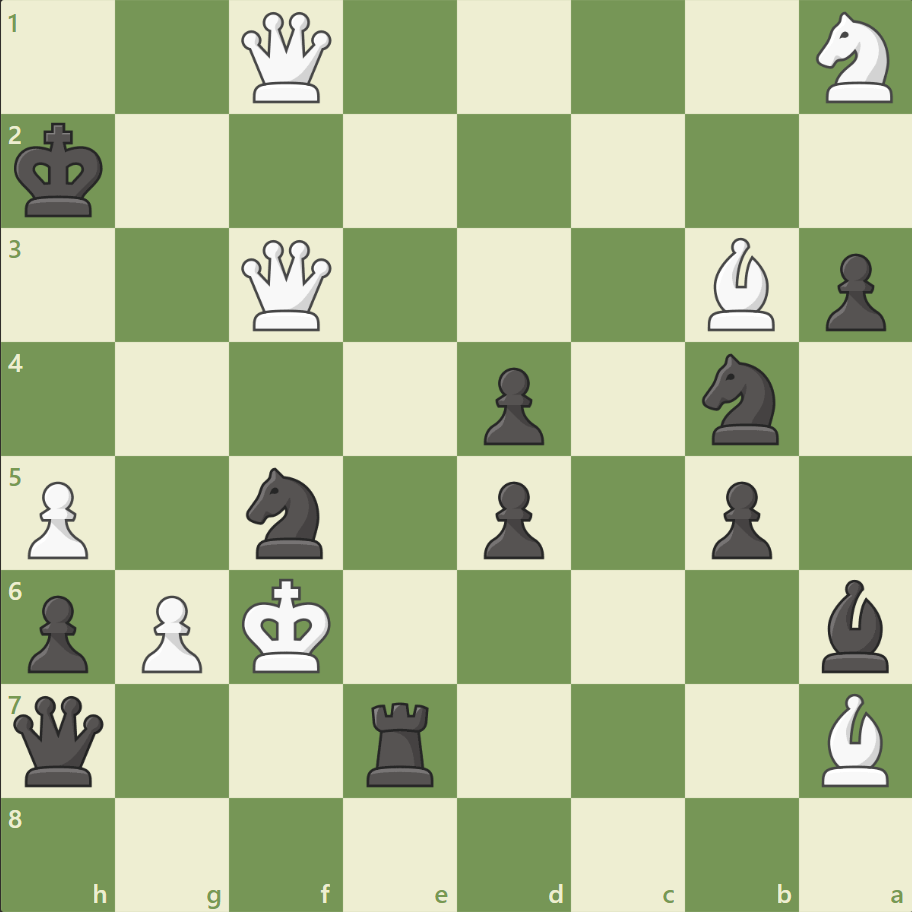B: (812, 687, 896, 790), (698, 233, 782, 336)
K: (238, 571, 338, 679)
N: (806, 7, 903, 110)
P: (133, 586, 208, 677), (20, 473, 95, 564)
Q: (237, 236, 336, 335), (237, 9, 336, 108)
b: (812, 574, 896, 676)
k: (11, 117, 111, 225)
n: (238, 461, 335, 564), (692, 348, 789, 450)
p: (20, 586, 95, 677), (701, 473, 776, 564), (474, 473, 549, 564), (474, 359, 549, 450), (815, 246, 889, 337)
q: (10, 690, 109, 789)
r: (360, 693, 442, 790)
